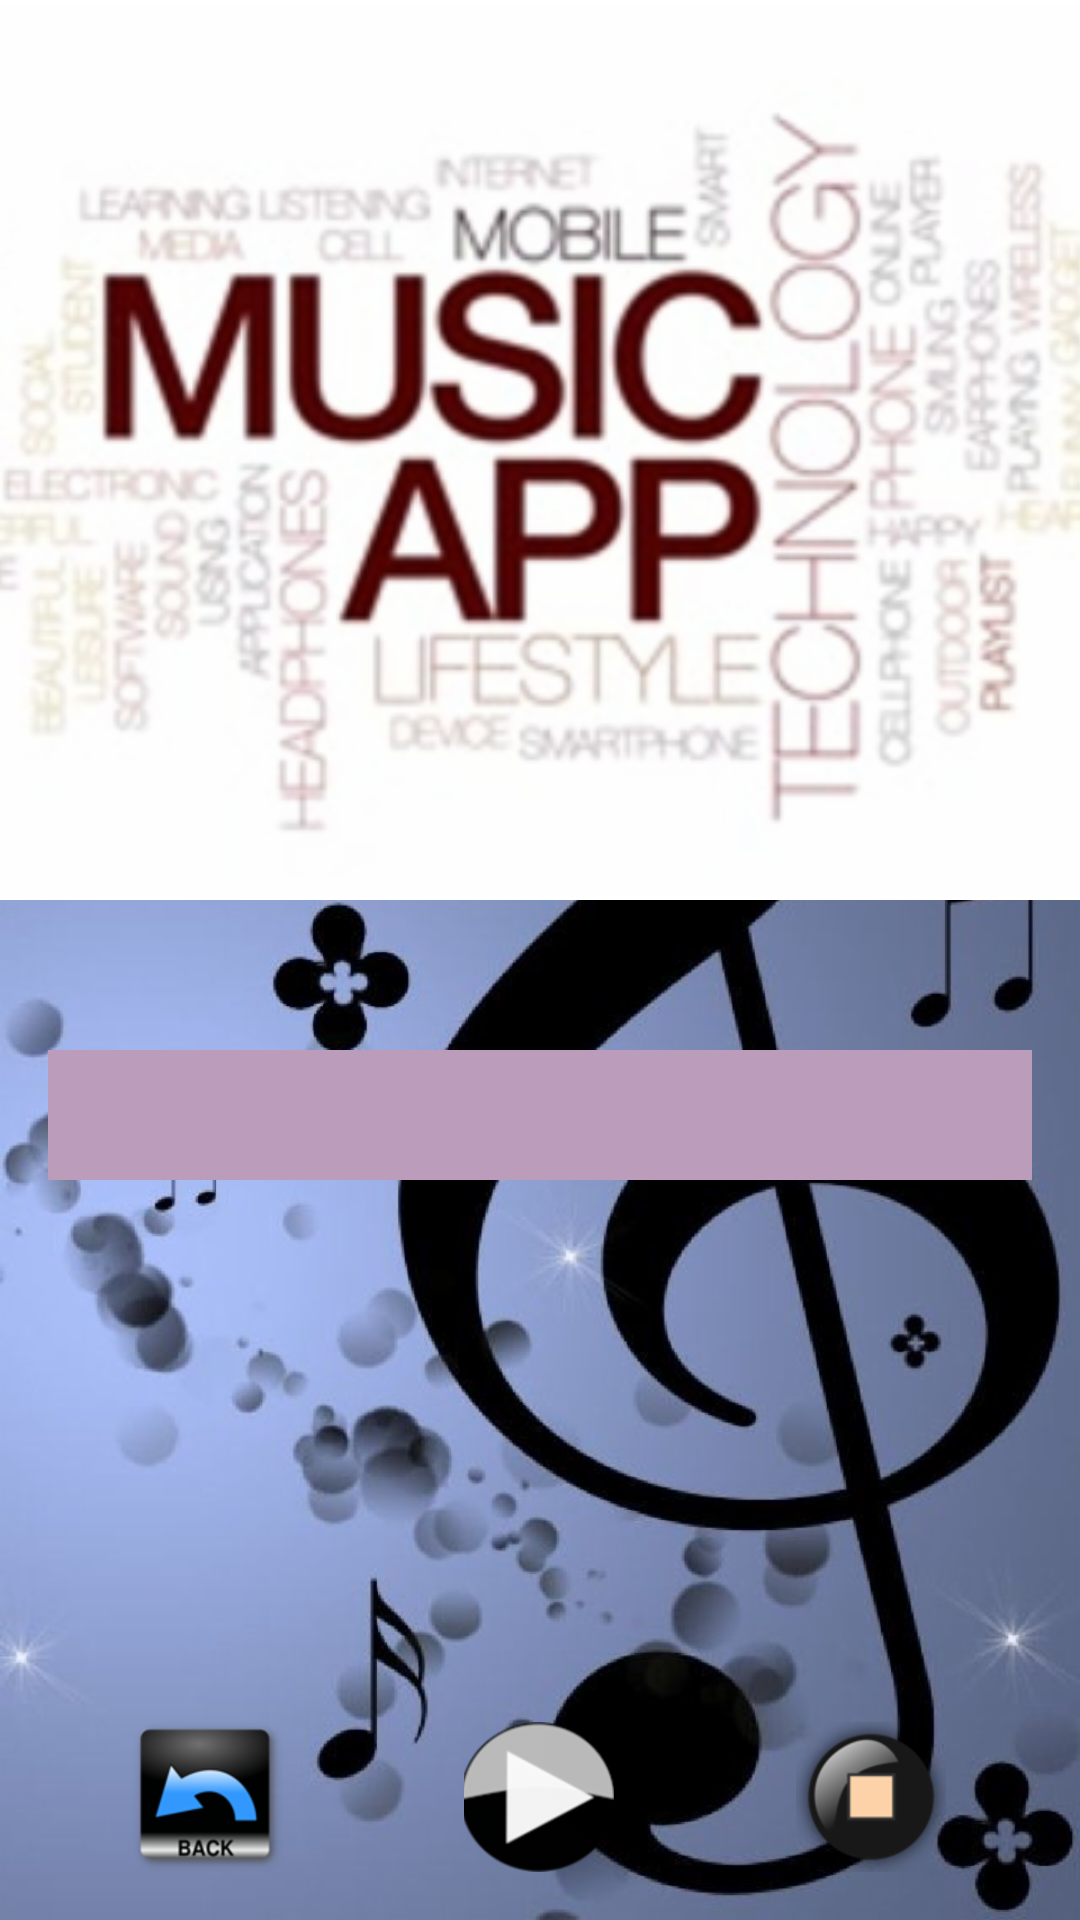

Icons on this 1080*1920 Android screen, each with the point to tap as (x=x, y=y):
playbutton: (x=539, y=1797)
stopbutton: (x=871, y=1797)
